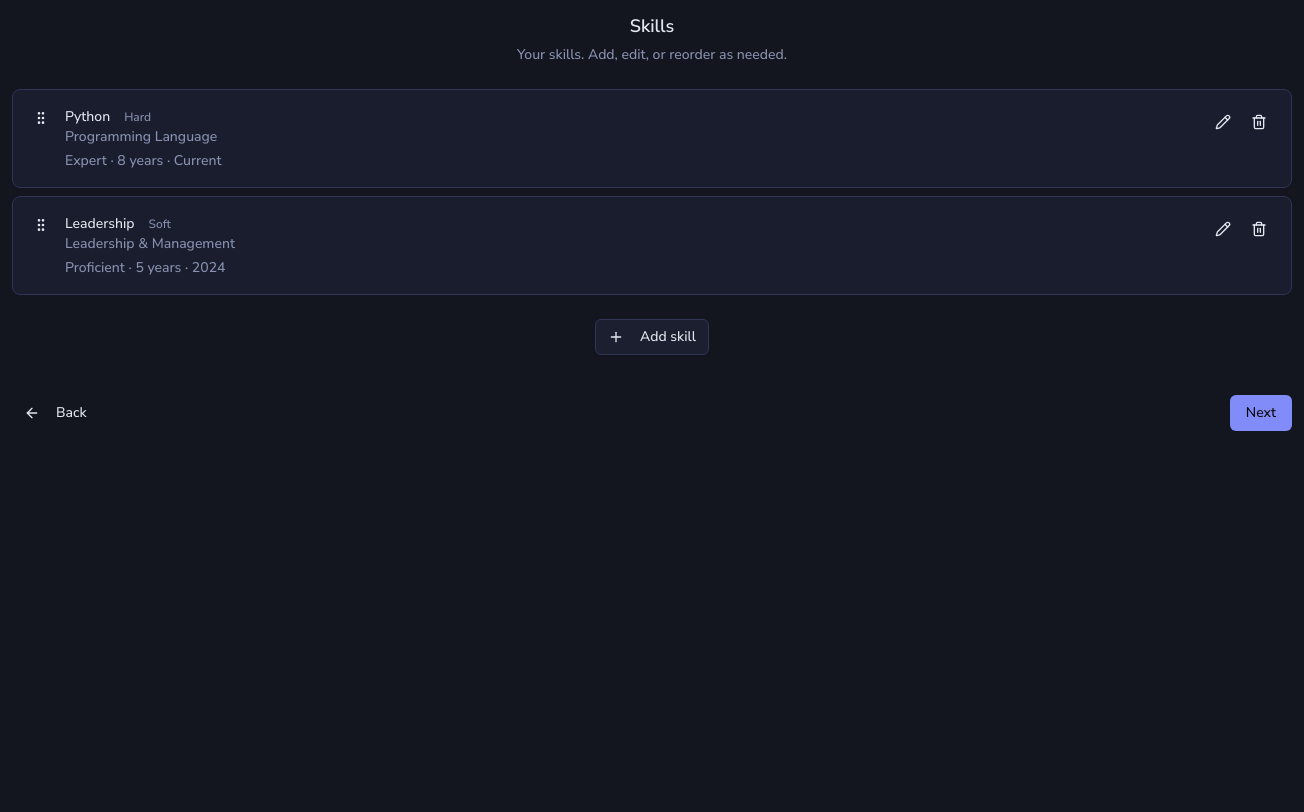
Test: SkillsStep › edit flow › shows error on API failure during edit
Step 1. Click the button named "edit python" → (1223, 122), box [1207,106,1239,138]
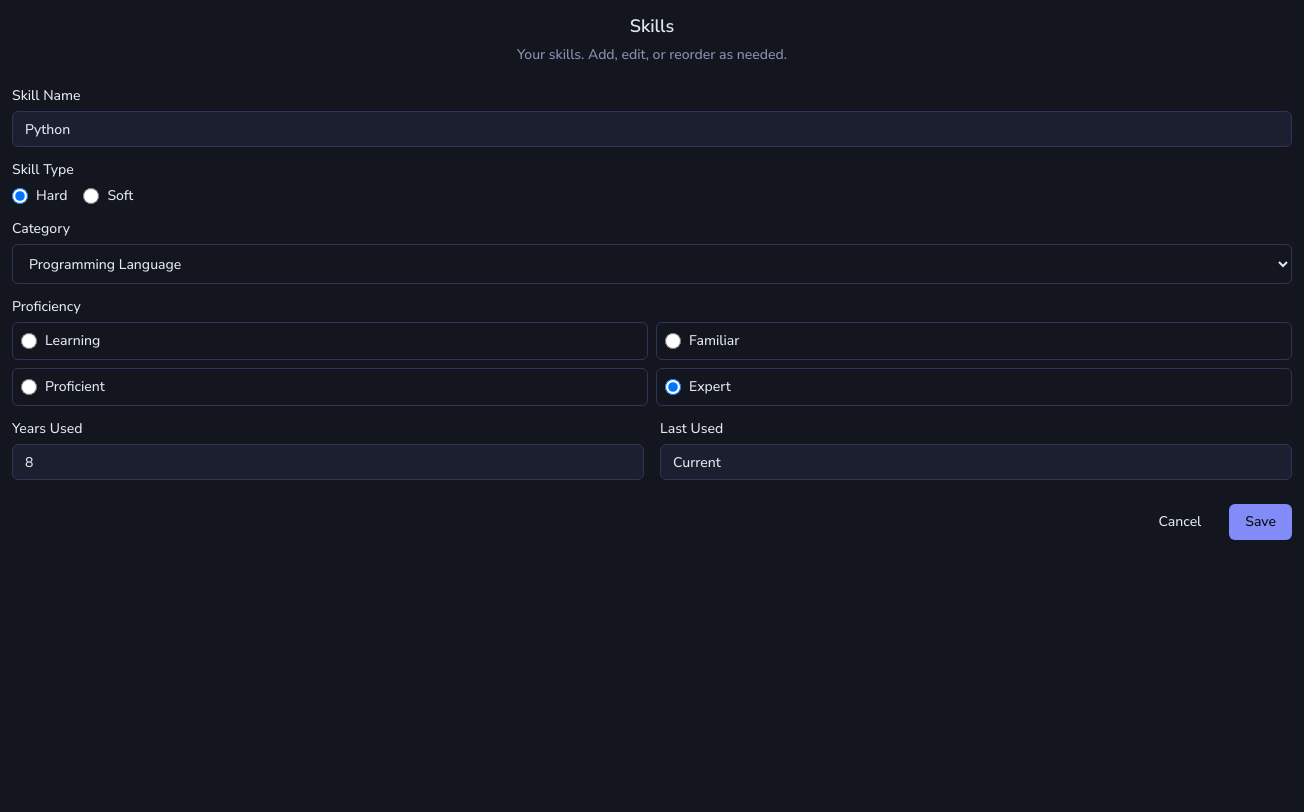
Step 2. Click the button "Save" → (1261, 522), box [1229,504,1292,540]
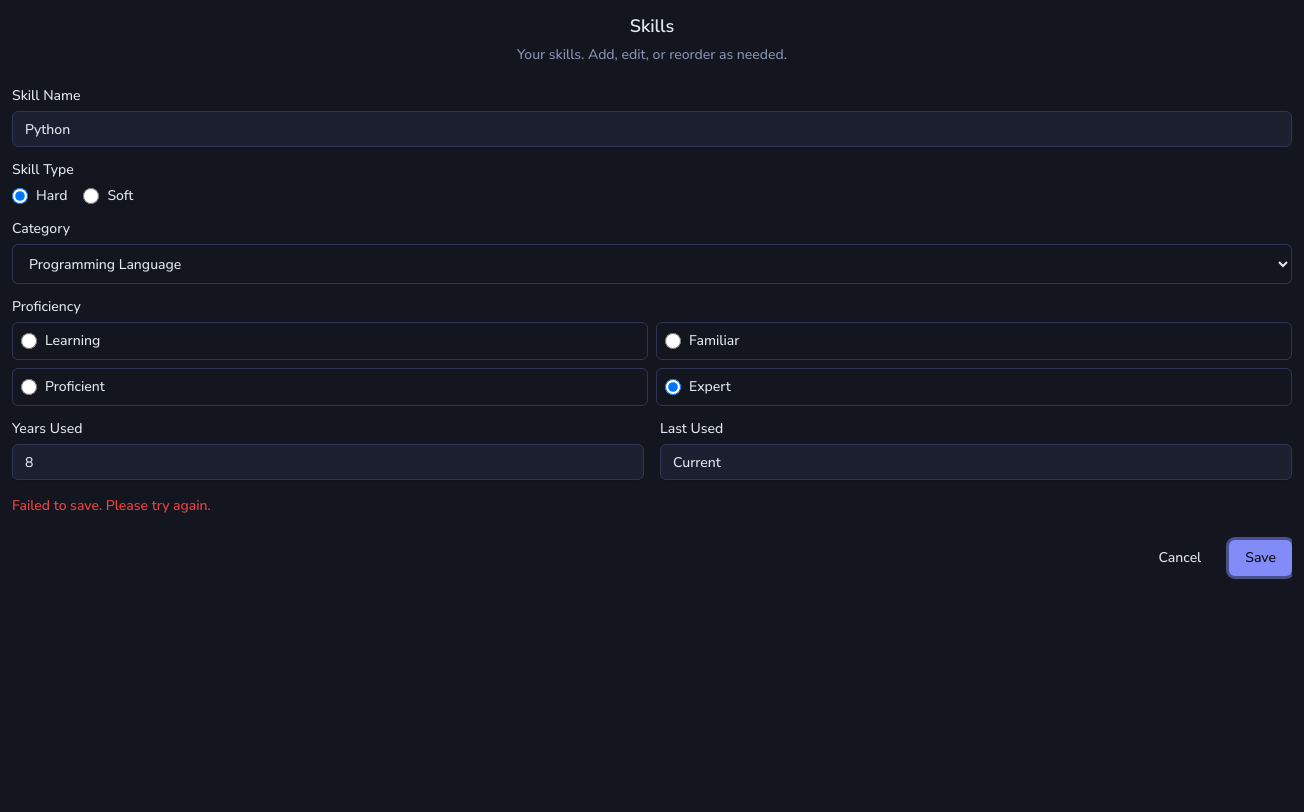
Now the message "Failed to save. Please try again." is shown, box [12,496,211,515]
